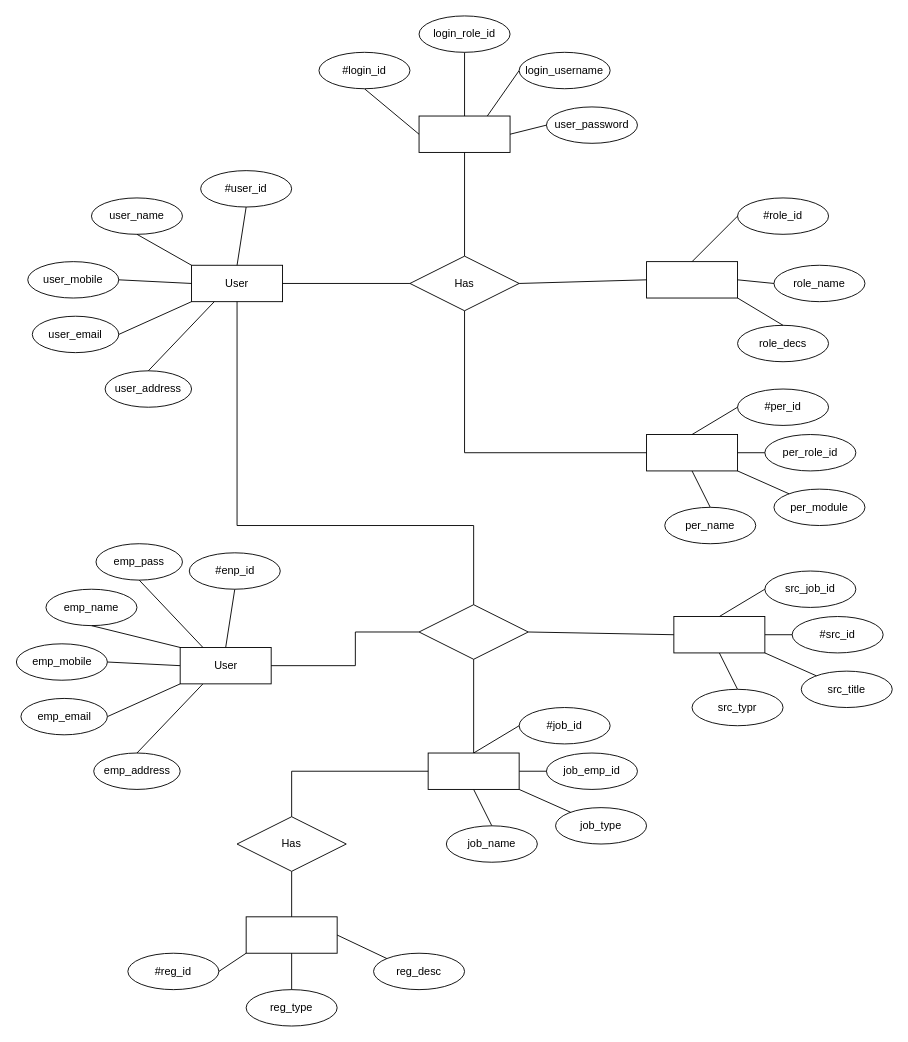
Image size: 908x1042. Some labels were removed from this diagram. Here are the shapes that lost their labels. From the top down, the centre of each, then its label:
At pixel 464 133: "Login".
At pixel 692 279: "Roles".
At pixel 692 452: "Permission".
At pixel 473 631: "Manage".
At pixel 719 634: "Search".
At pixel 473 770: "Job".
At pixel 291 934: "Registration".
